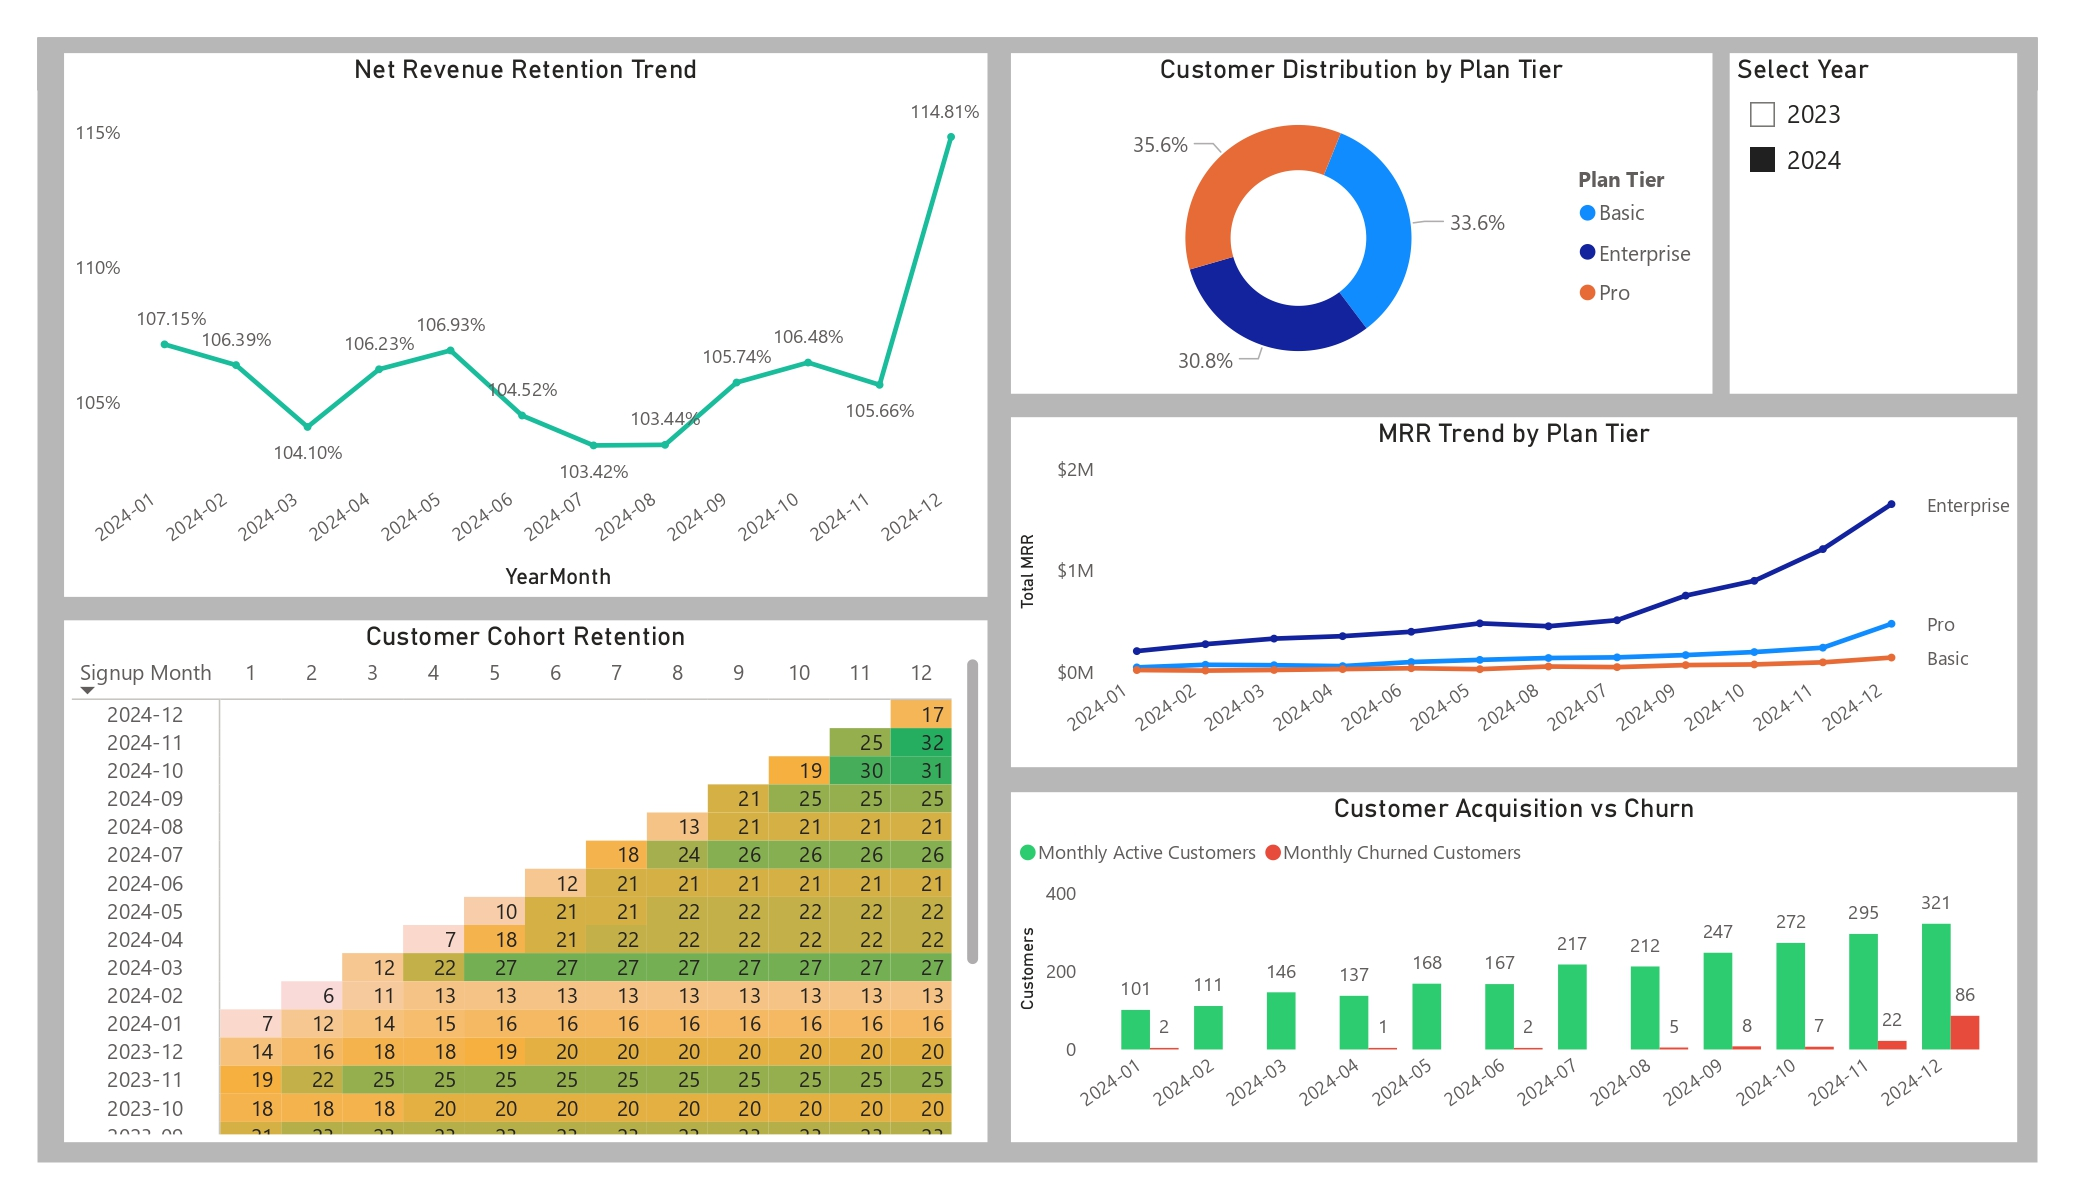

What the dashboard file says about the page in this screenshot:
{"tool":"powerbi","page":{"name":"Page 2","canvas":[1280,720],"ordinal":1},"visuals":[{"type":"lineChart","title":"MRR Trend by Plan Tier","fields":{"Category":["DateTable.YearMonth"],"Y":["ravenstack_subscriptions.Total MRR"],"Series":["ravenstack_subscriptions.plan_tier"]},"box":[623.3,243.3,643.3,223.3],"z":0},{"type":"donutChart","title":"Customer Distribution by Plan Tier","fields":{"Category":["ravenstack_accounts.plan_tier"],"Y":["ravenstack_subscriptions.Active Customers (End of Month)"]},"box":[623.3,10,448.3,218.3],"z":1000},{"type":"clusteredColumnChart","title":"Customer Acquisition vs Churn","fields":{"Category":["DateTable.YearMonth"],"Y":["ravenstack_subscriptions.Active Customers (End of Month)","ravenstack_subscriptions.Churned Customers (During Month)"]},"box":[623.3,483.3,643.3,223.3],"z":2000},{"type":"lineChart","title":"Net Revenue Retention Trend","fields":{"Category":["DateTable.YearMonth"],"Y":["ravenstack_subscriptions.Net Revenue Retention"]},"box":[16.7,10,591.7,348.3],"z":3000},{"type":"pivotTable","title":"Customer Cohort Retention","fields":{"Rows":["ravenstack_accounts.SignupYearMonth"],"Columns":["DateTable.MonthNumber"],"Values":["ravenstack_subscriptions.Cohort Retained Customers 1"]},"box":[16.7,373.3,591.7,333.3],"z":4000},{"type":"slicer","title":"Select Year","fields":{"Values":["DateTable.Year"]},"box":[1083.3,10,183.3,218.3],"z":5000}]}

Visuals, with their boxes on the page's 1280x720 design canvas (x1, y1, x2, y2). These are canvas units, not pixel positions in the 2075x1200 screenshot, which may show the page scaled, cropped or inside an application window:
"MRR Trend by Plan Tier" lineChart: (623,243,1267,467)
"Customer Distribution by Plan Tier" donutChart: (623,10,1072,228)
"Customer Acquisition vs Churn" clusteredColumnChart: (623,483,1267,707)
"Net Revenue Retention Trend" lineChart: (17,10,608,358)
"Customer Cohort Retention" pivotTable: (17,373,608,707)
"Select Year" slicer: (1083,10,1267,228)
